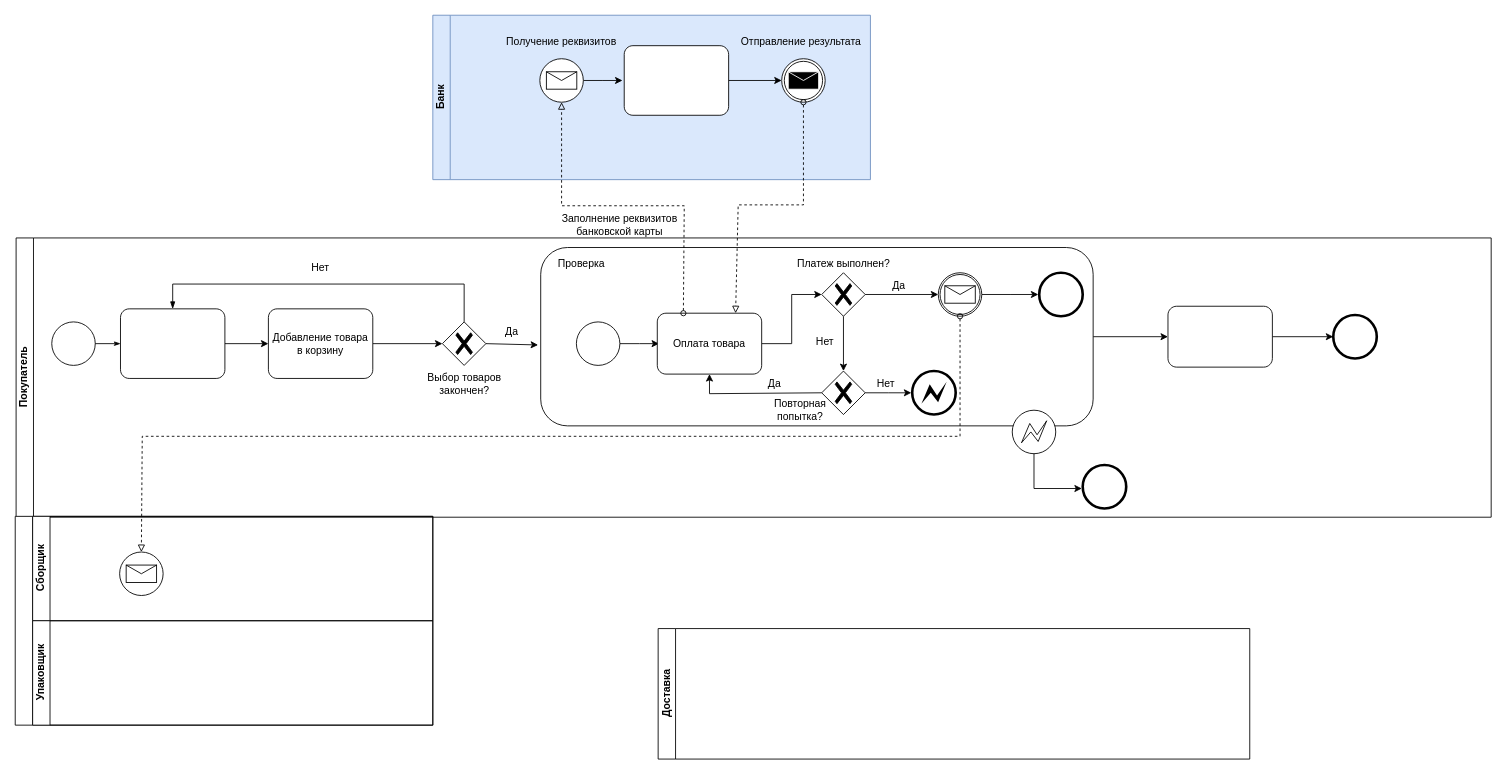
Image size: 1507x774. Some labels were removed from this diagram. Here are the shapes that lost their labels. From the top down, the box of each, then its label:
(623, 45, 729, 115): Выполнение платежа
(120, 308, 225, 378): Выбор товара на платформе
(1167, 305, 1272, 367): Товар доставлен и получен
(14, 515, 433, 725): Интернет-магазин
